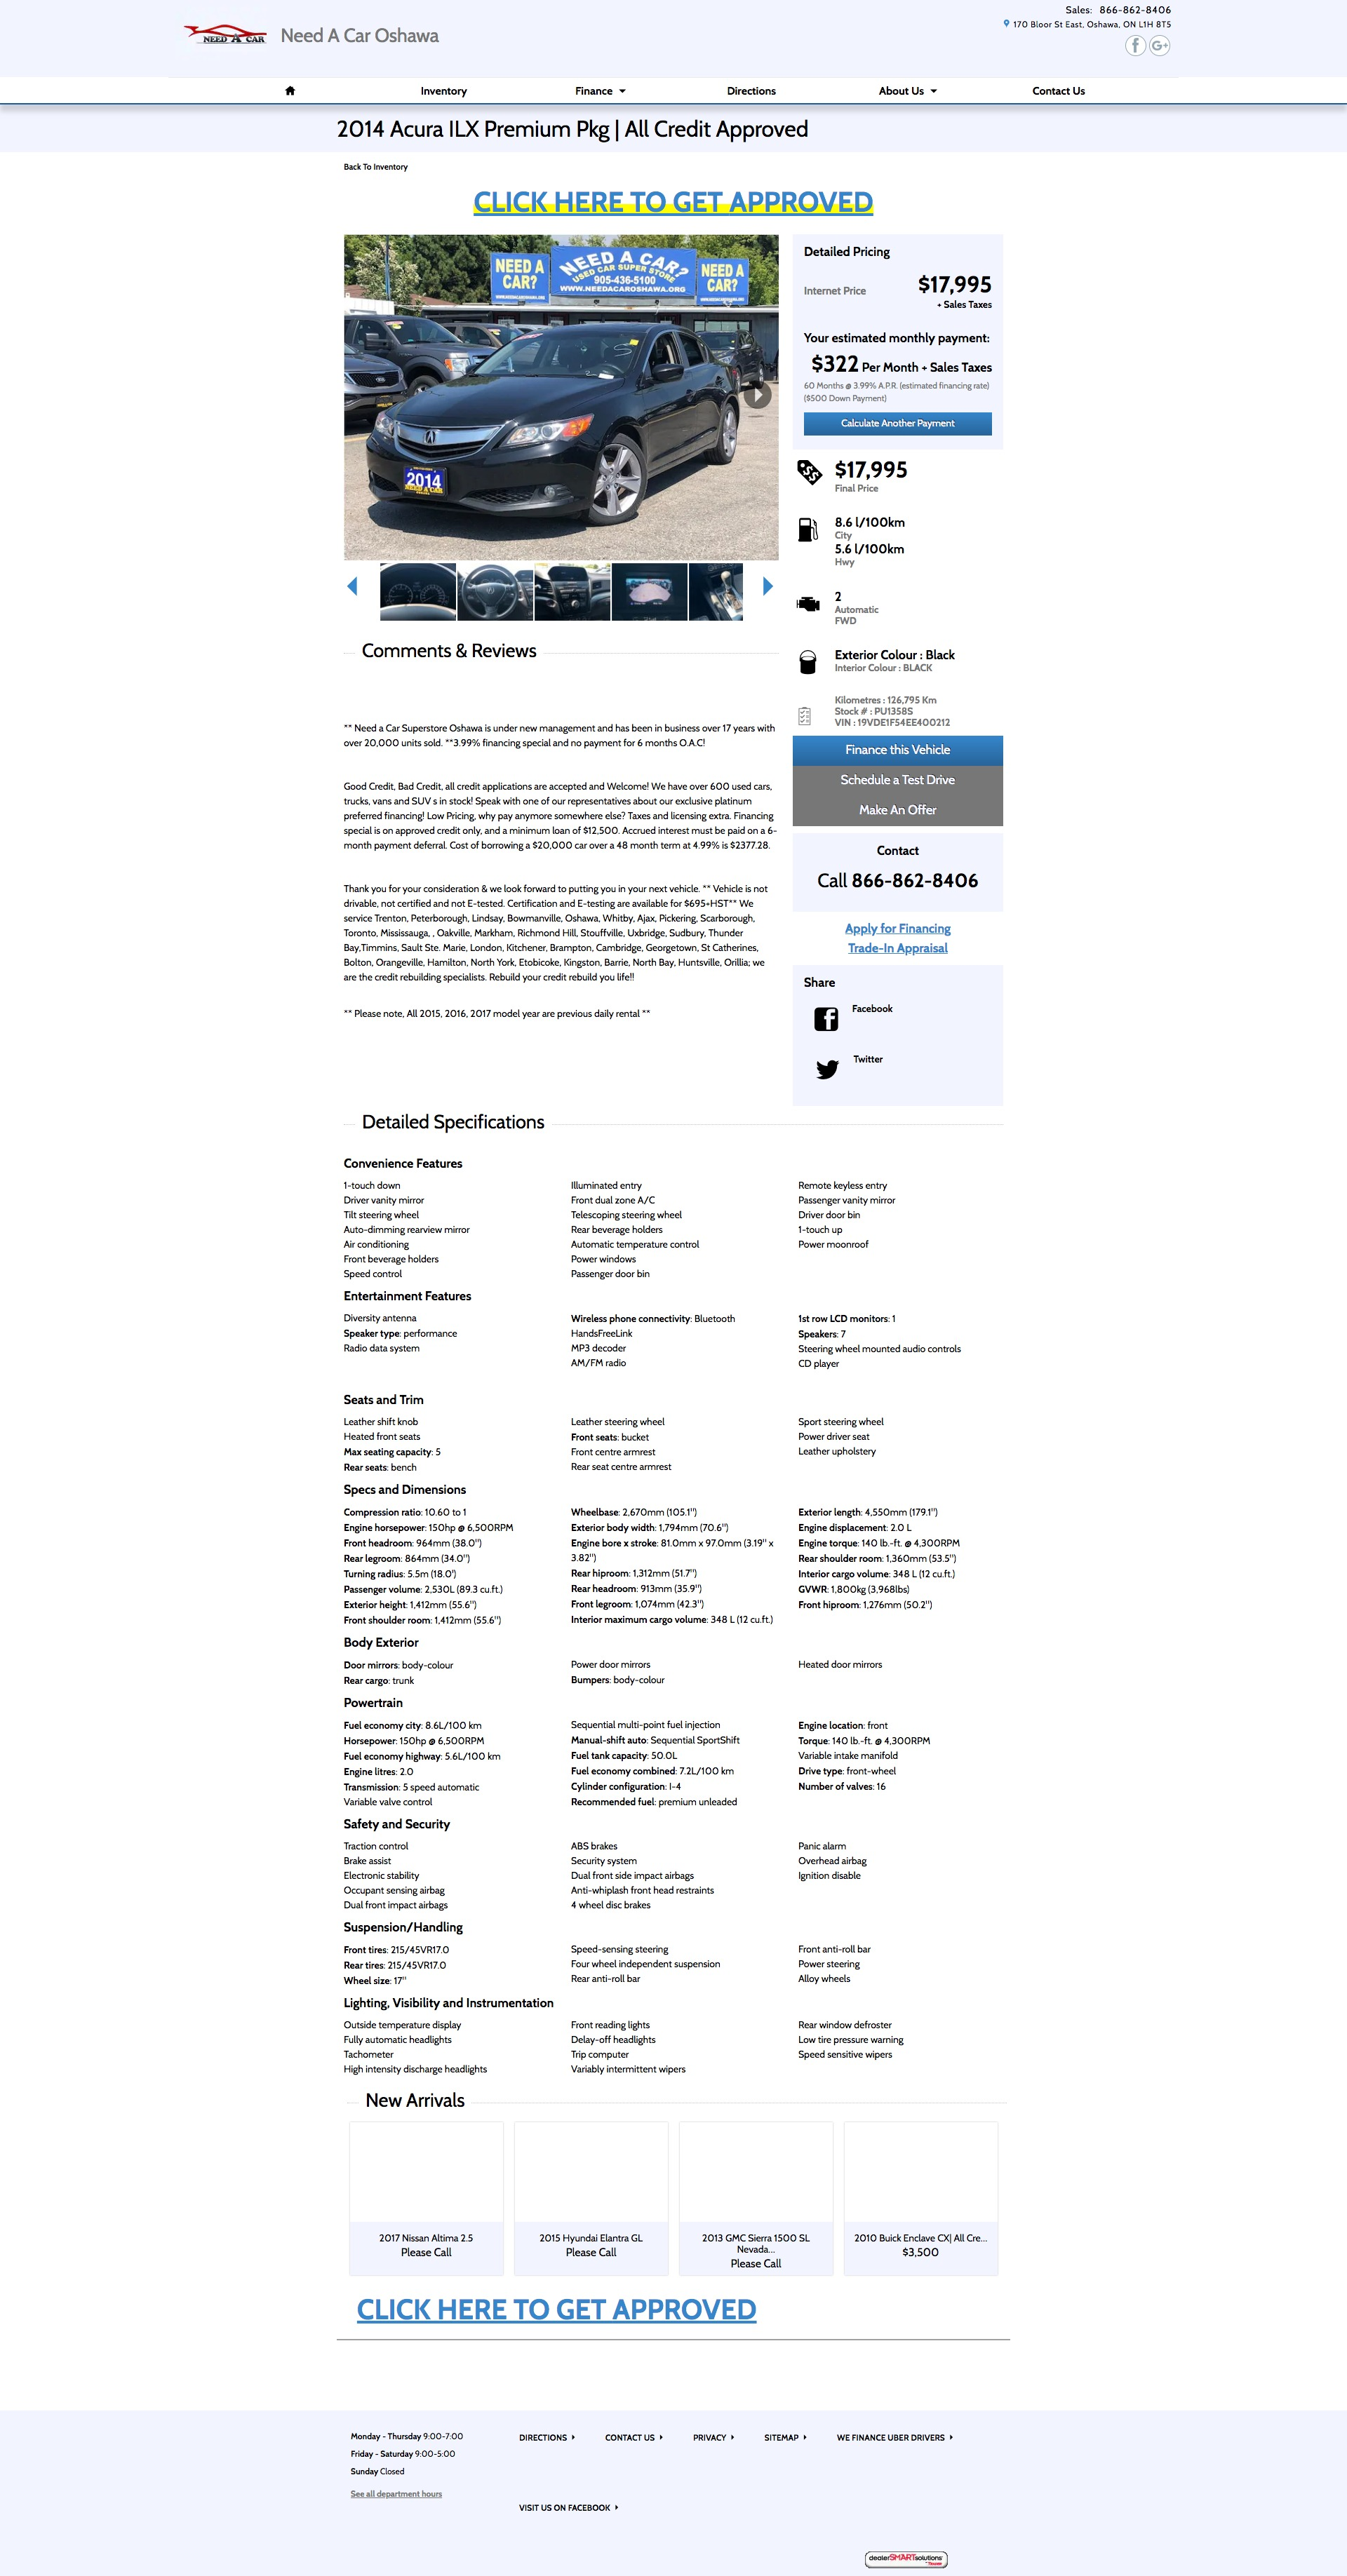car: (764, 576, 774, 598)
